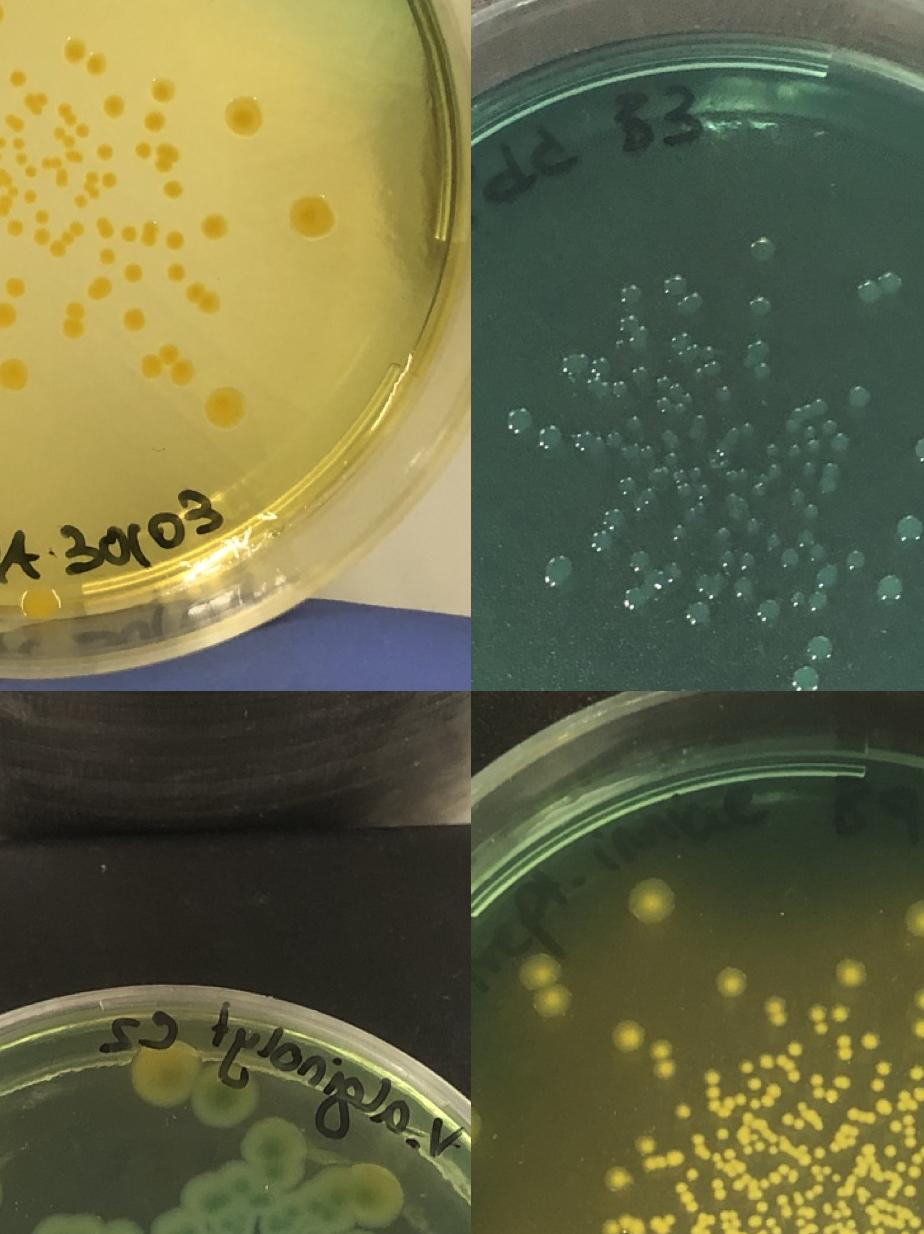pddamselae: (564, 352, 626, 398), (670, 329, 724, 380), (589, 508, 628, 554), (647, 466, 703, 497), (784, 399, 826, 435), (628, 548, 662, 586), (618, 314, 651, 346), (747, 340, 770, 378), (807, 633, 835, 661), (544, 558, 572, 586), (656, 374, 687, 398), (792, 666, 820, 691), (536, 424, 564, 448), (726, 422, 756, 444), (685, 602, 712, 626), (819, 464, 840, 494), (756, 602, 782, 626), (623, 587, 649, 611), (878, 577, 904, 601), (694, 570, 720, 594), (816, 563, 842, 587), (778, 546, 804, 570), (896, 518, 922, 542), (508, 408, 534, 432), (730, 576, 758, 598), (806, 590, 832, 612), (842, 548, 866, 570), (575, 430, 597, 452), (629, 366, 651, 388), (749, 296, 771, 318), (682, 292, 704, 314), (620, 284, 642, 306), (859, 280, 881, 302), (664, 276, 686, 298), (849, 386, 870, 408), (713, 384, 734, 406), (752, 239, 773, 261), (882, 272, 902, 292), (620, 477, 637, 494), (787, 443, 804, 460), (716, 526, 732, 544), (730, 498, 746, 516), (766, 462, 782, 480), (765, 532, 781, 549), (801, 461, 817, 478), (765, 443, 781, 460), (719, 552, 735, 568), (740, 552, 756, 568), (797, 528, 813, 544), (746, 518, 762, 534), (634, 496, 650, 512), (788, 488, 804, 504), (752, 482, 768, 498), (725, 470, 741, 486), (608, 432, 624, 448), (822, 418, 838, 434), (627, 414, 643, 430), (808, 440, 823, 457), (806, 502, 820, 520), (915, 436, 924, 464), (670, 523, 686, 538), (656, 395, 672, 410), (642, 445, 656, 462), (834, 434, 848, 451), (663, 430, 678, 445), (697, 484, 713, 498), (664, 452, 680, 466), (692, 416, 708, 430), (804, 424, 818, 439), (812, 544, 826, 558)
sinniae: (706, 1071, 782, 1113), (521, 955, 571, 1018), (624, 876, 678, 928), (804, 1164, 844, 1202), (716, 964, 750, 1000), (821, 1198, 859, 1230), (759, 1162, 800, 1191), (612, 1020, 646, 1054), (835, 956, 869, 990), (889, 1114, 918, 1150), (895, 1143, 924, 1178), (652, 1042, 676, 1080), (810, 1074, 839, 1102), (600, 1216, 645, 1234), (774, 1054, 802, 1082), (709, 1146, 736, 1174), (906, 899, 924, 940), (748, 1214, 784, 1234), (740, 1140, 780, 1158), (638, 1136, 658, 1171), (471, 1100, 484, 1151), (808, 1004, 828, 1036), (606, 1167, 630, 1191), (649, 1213, 676, 1234), (813, 1140, 841, 1159), (774, 1192, 794, 1218), (689, 1211, 711, 1234), (675, 1181, 695, 1205), (782, 1112, 806, 1131), (710, 1178, 727, 1202), (673, 1100, 693, 1120), (860, 1032, 880, 1052), (832, 1004, 852, 1024), (796, 1142, 812, 1166), (764, 996, 784, 1015), (838, 1034, 852, 1061), (896, 1089, 910, 1113), (911, 1018, 924, 1041), (862, 1225, 887, 1234), (915, 989, 924, 1013), (718, 1208, 732, 1222), (756, 1200, 770, 1214), (884, 1186, 898, 1200), (884, 1142, 898, 1156), (862, 1142, 876, 1156), (692, 1132, 706, 1146), (716, 1128, 730, 1142), (741, 1110, 755, 1124), (863, 1110, 877, 1124), (847, 1107, 861, 1121), (795, 1100, 809, 1114), (871, 1078, 885, 1092), (748, 1078, 762, 1092), (836, 1075, 850, 1089), (910, 1067, 924, 1081), (740, 1061, 754, 1075), (788, 1042, 802, 1056), (685, 1168, 698, 1182), (876, 1100, 889, 1114), (793, 1216, 807, 1228), (908, 1216, 922, 1228), (904, 1184, 916, 1198), (878, 1062, 890, 1076), (732, 1179, 744, 1192), (759, 1056, 772, 1068), (914, 1089, 924, 1103), (893, 1228, 912, 1234), (735, 1228, 748, 1234)
vharveyi: (39, 126, 82, 187), (140, 344, 199, 388), (18, 580, 64, 626), (202, 385, 248, 430), (288, 193, 334, 238), (49, 220, 84, 260), (226, 98, 262, 134), (184, 282, 220, 314), (0, 166, 21, 217), (74, 170, 100, 209), (60, 298, 84, 338), (0, 359, 28, 391), (154, 142, 180, 174), (22, 91, 47, 117), (61, 38, 86, 62), (123, 308, 147, 332), (143, 108, 167, 132), (101, 94, 125, 118), (151, 79, 175, 103), (123, 260, 145, 284), (202, 216, 226, 238), (92, 277, 114, 299), (5, 276, 27, 298), (166, 260, 188, 282), (94, 142, 116, 164), (86, 53, 108, 75), (57, 101, 78, 124), (95, 216, 115, 240), (164, 230, 186, 251), (163, 180, 184, 202), (142, 220, 158, 248), (3, 112, 25, 132), (0, 304, 17, 328), (98, 246, 116, 266), (6, 217, 24, 237), (134, 142, 152, 160), (122, 224, 138, 242), (102, 170, 118, 188), (34, 228, 50, 245), (12, 69, 28, 86), (35, 208, 51, 224), (76, 122, 92, 138), (0, 136, 8, 164), (14, 153, 28, 167), (11, 136, 25, 150), (23, 189, 36, 203), (26, 164, 38, 178)
